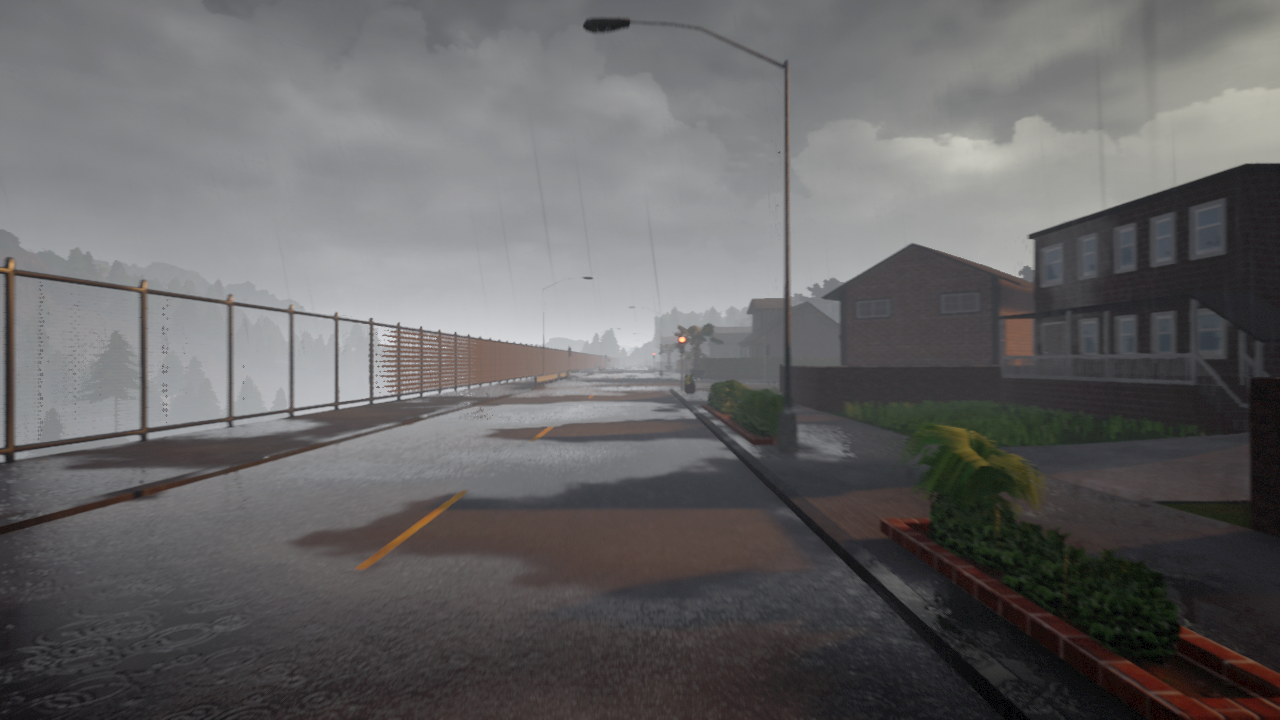red: (677, 335, 685, 353)
